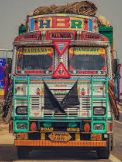truck: (1, 1, 122, 162)
